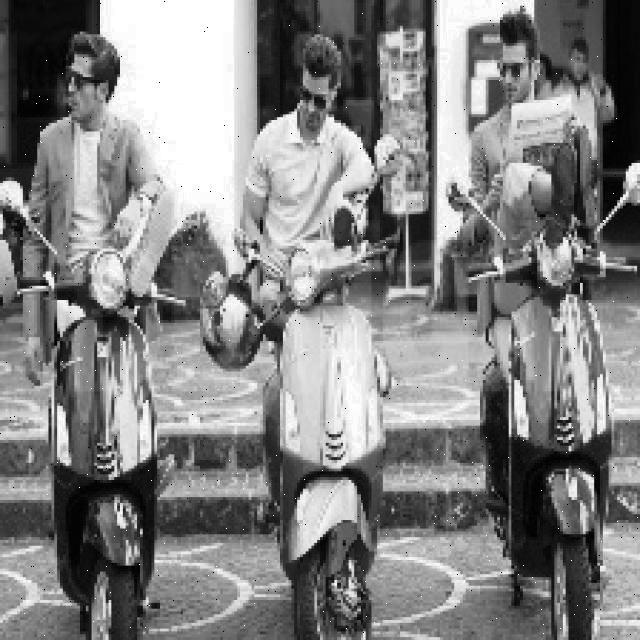Bike: (479, 246, 633, 639), (31, 254, 173, 639), (264, 266, 395, 638)
